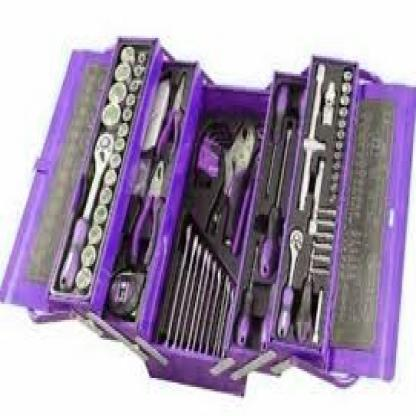Tool Box: (2, 29, 416, 404)
